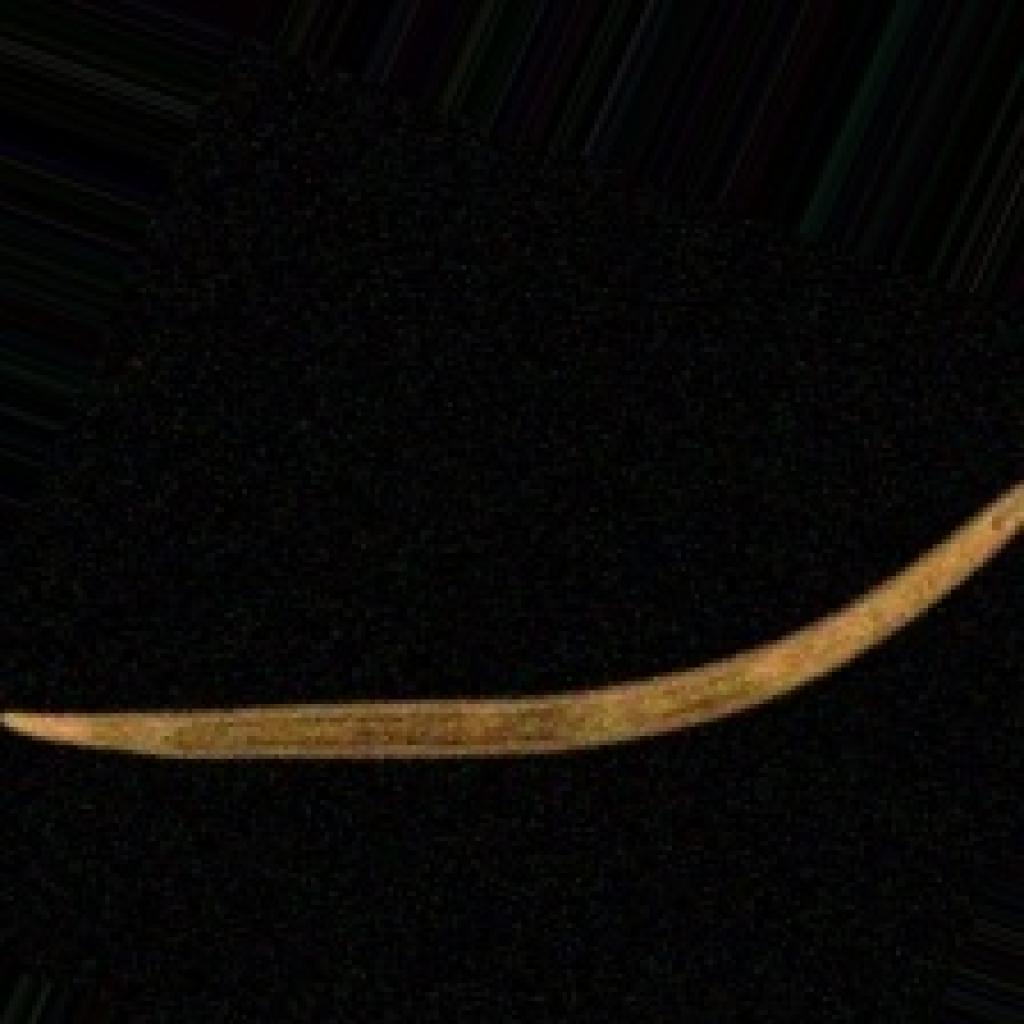Nematode: (0, 50, 1019, 767)
